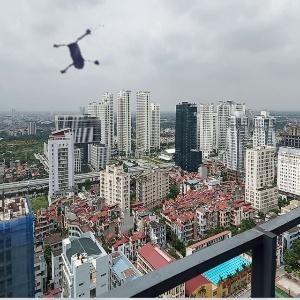drone: (47, 19, 122, 94)
